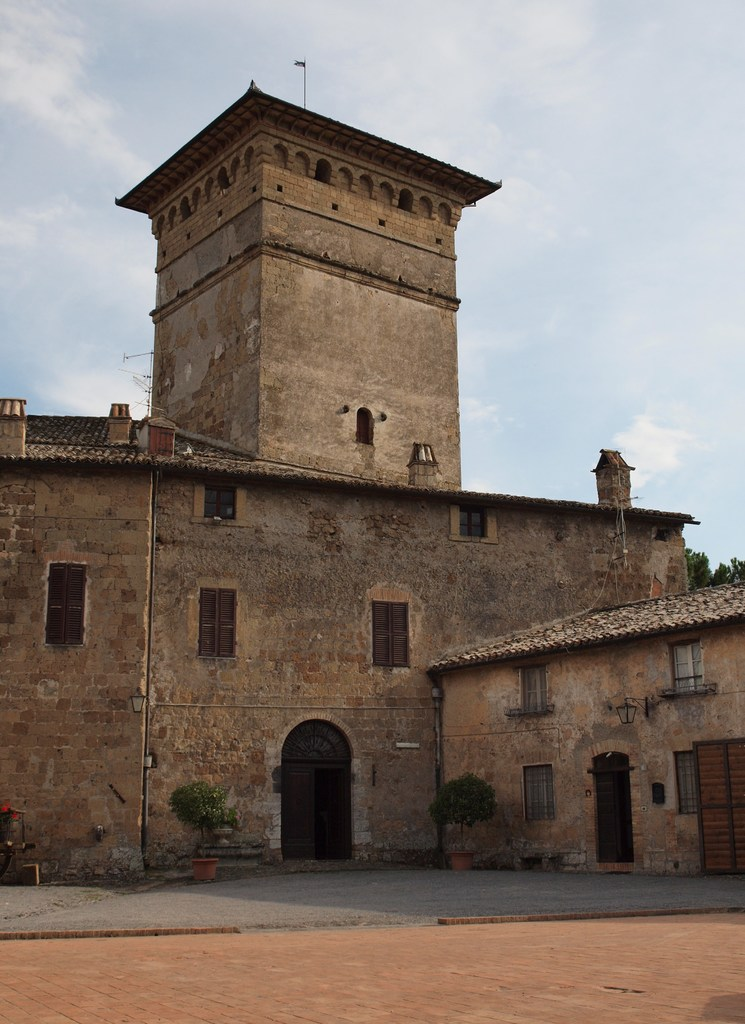Door: (288, 718, 352, 865)
